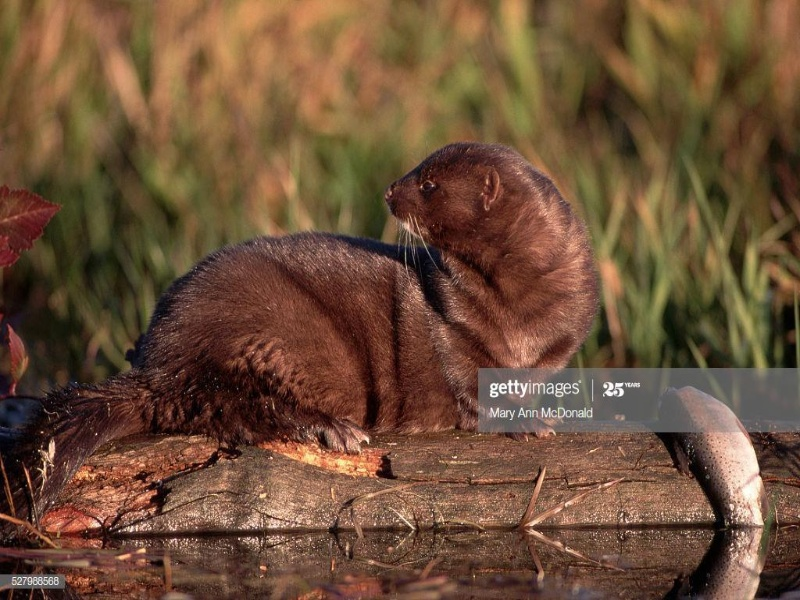minkish: (29, 138, 602, 475)
